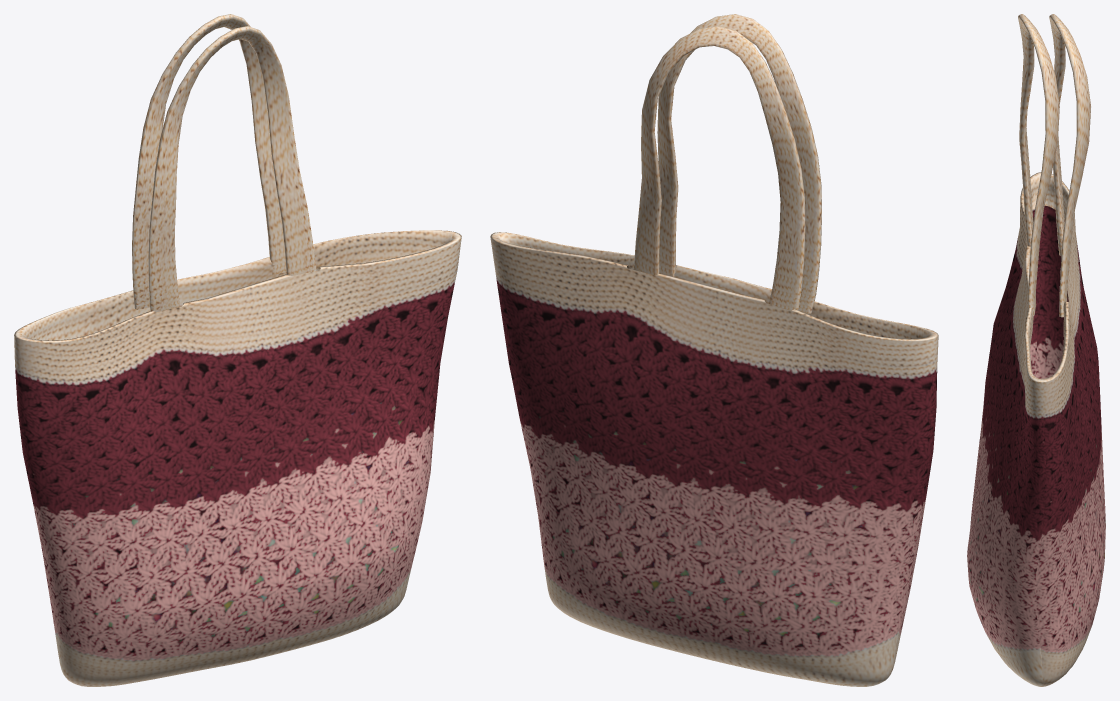
Rendered from bolsa3rosavinho.glb.
The picture shows the model from 3 angles, left to right: view 1: azimuth 30°, elevation 25°; view 2: azimuth 150°, elevation 25°; view 3: azimuth 270°, elevation 25°; orthographic projection. The views are drawn at different scales.
Visible parts, largest first — view 1: polySurface1, polySurface2, polySurface4; view 2: polySurface1, polySurface4, polySurface2; view 3: polySurface1, polySurface2, polySurface4.
Part boxes in pixels (left/top/right/bottom): polySurface1: left=14, top=230, right=461, bottom=686; polySurface2: left=148, top=26, right=316, bottom=312; polySurface4: left=132, top=14, right=286, bottom=309; polySurface1: left=490, top=232, right=938, bottom=686; polySurface4: left=633, top=26, right=805, bottom=310; polySurface2: left=657, top=14, right=821, bottom=313; polySurface1: left=967, top=172, right=1105, bottom=686; polySurface2: left=1018, top=14, right=1059, bottom=315; polySurface4: left=1049, top=14, right=1090, bottom=317.
Size of the model in its own units: 24.14 by 32.94 by 6.88.
1 material, 1 textured.
